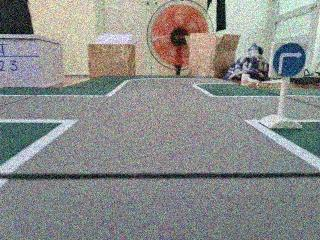right: (270, 38, 307, 80)
